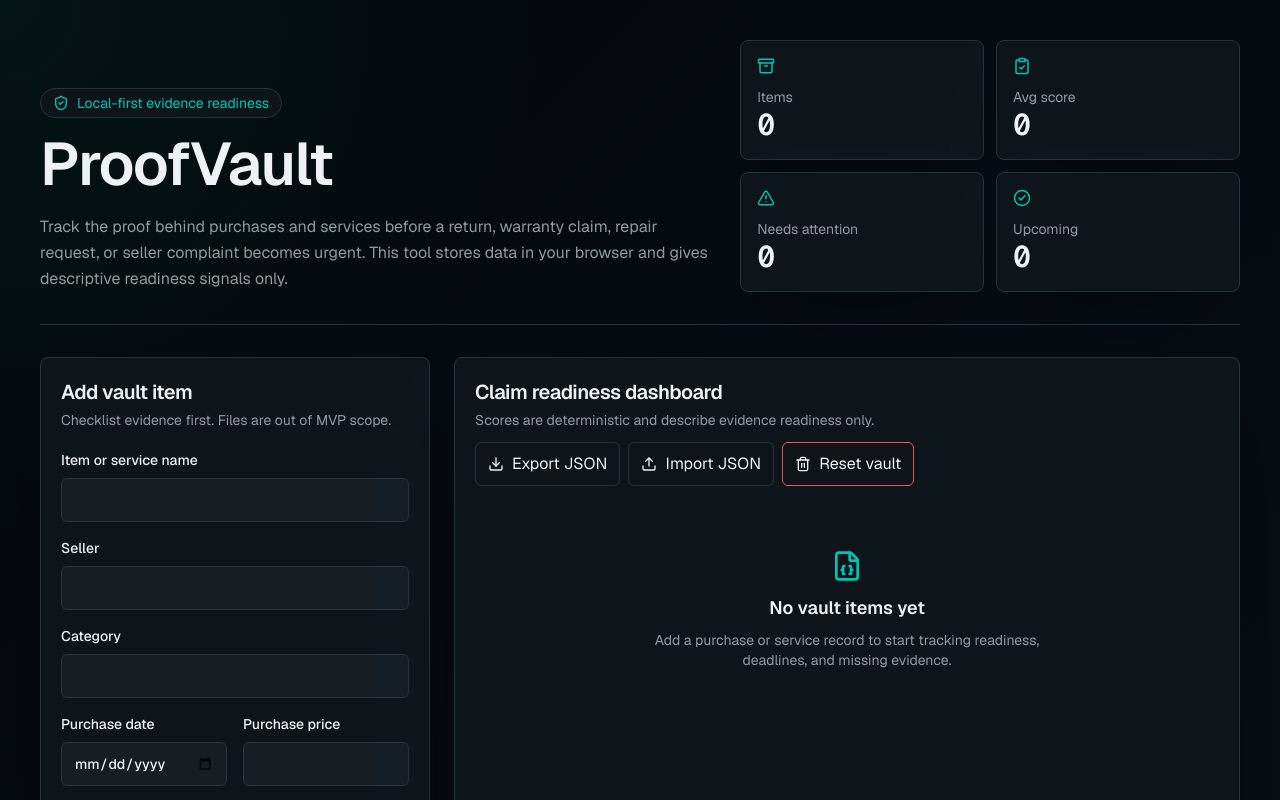
Test: ProofVaultApp › updates readiness score when evidence checklist changes
The width and height of the screenshot is (1280, 800).
Step 1. Type "Smartwatch" into the field labelled "Item or service name" → (235, 500), box [61, 478, 409, 522]
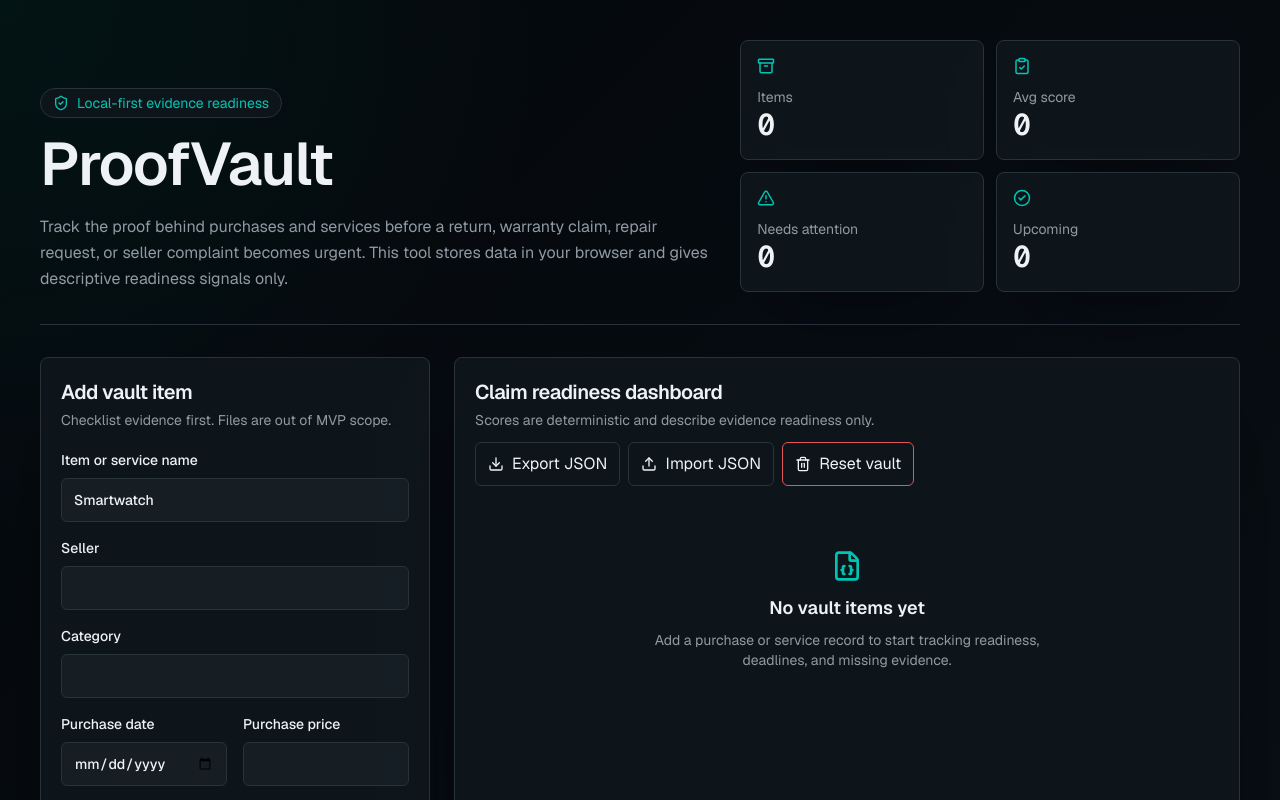
Step 2. Type "Tempo Gadget" into the field labelled "Seller" → (235, 588), box [61, 566, 409, 610]
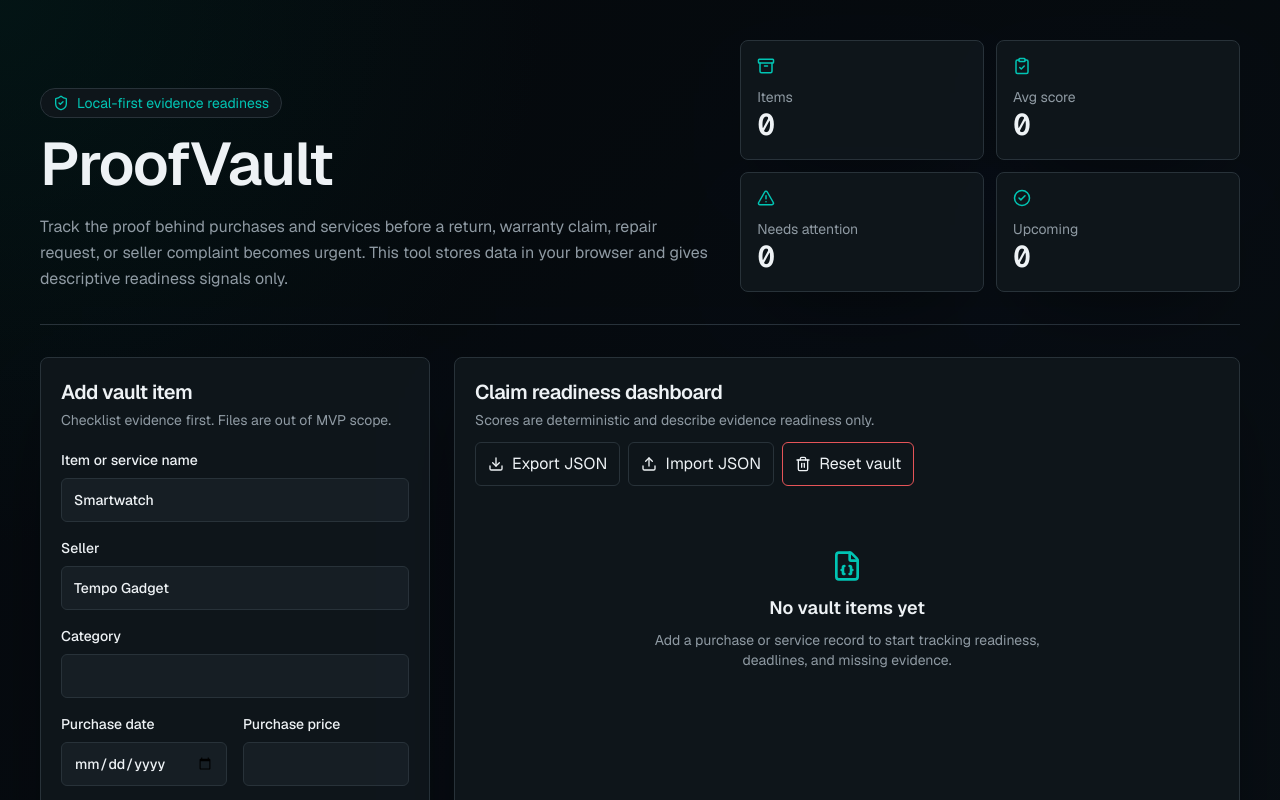
Step 3. Type "2026-06-20" into the date field labelled "Purchase date" → (144, 764), box [61, 742, 227, 786]
(page scrolled)
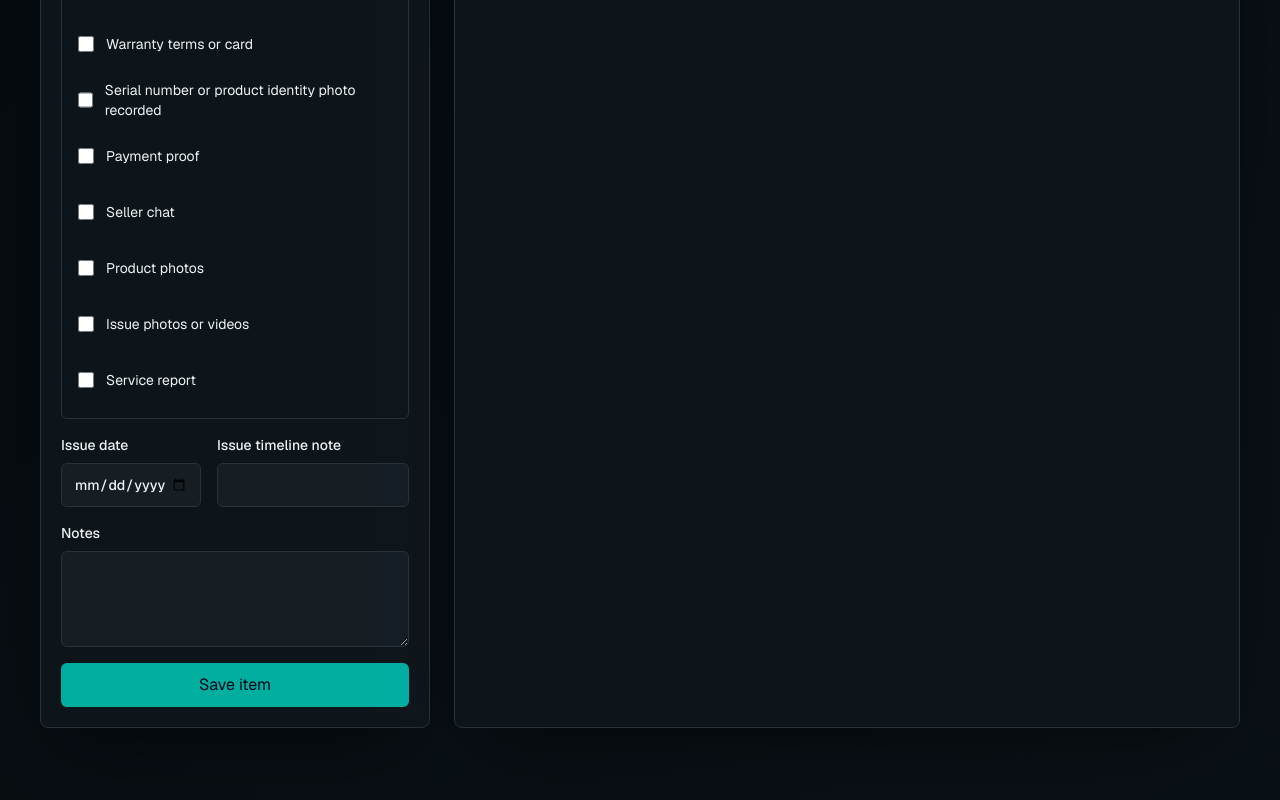
Step 4. Click the button "Save item" → (235, 685), box [61, 663, 409, 707]
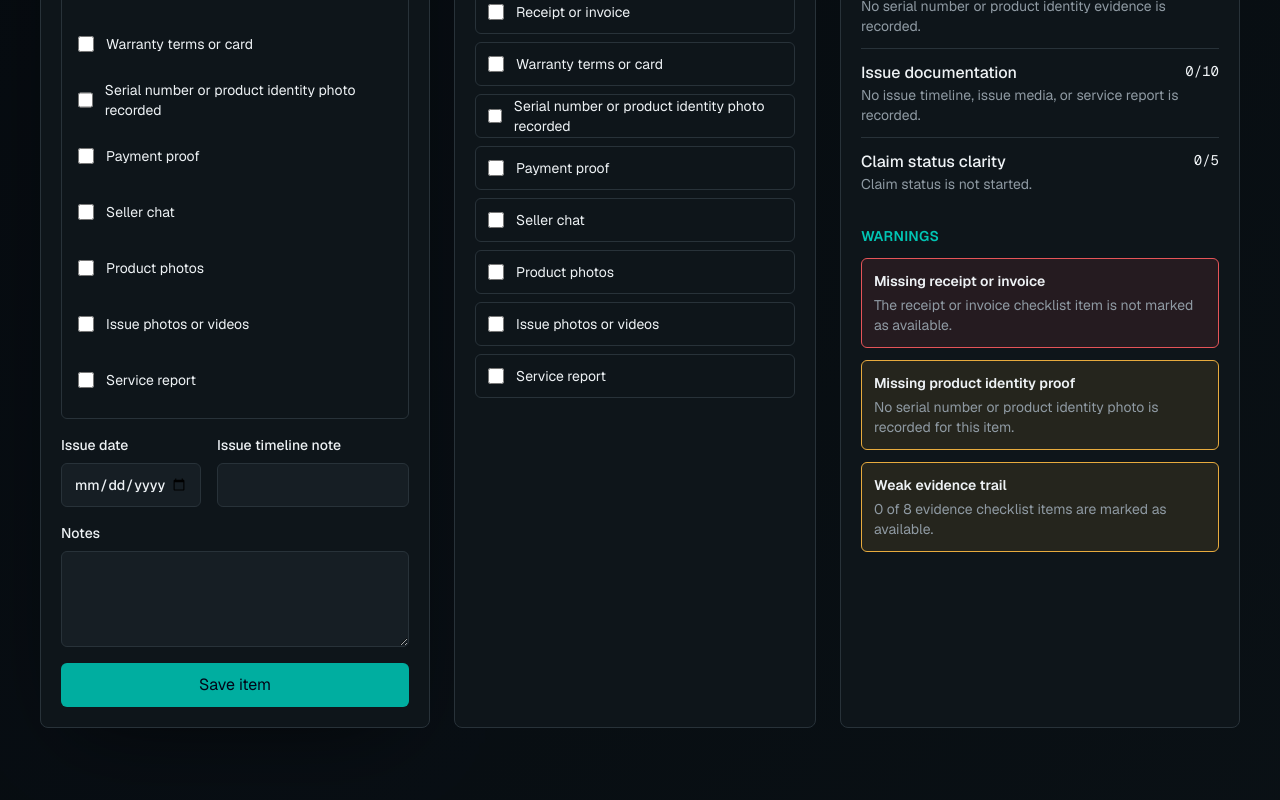
Step 5. Click the checkbox labelled "Receipt or invoice" → (496, 12), box [488, 4, 504, 20]
(page scrolled)
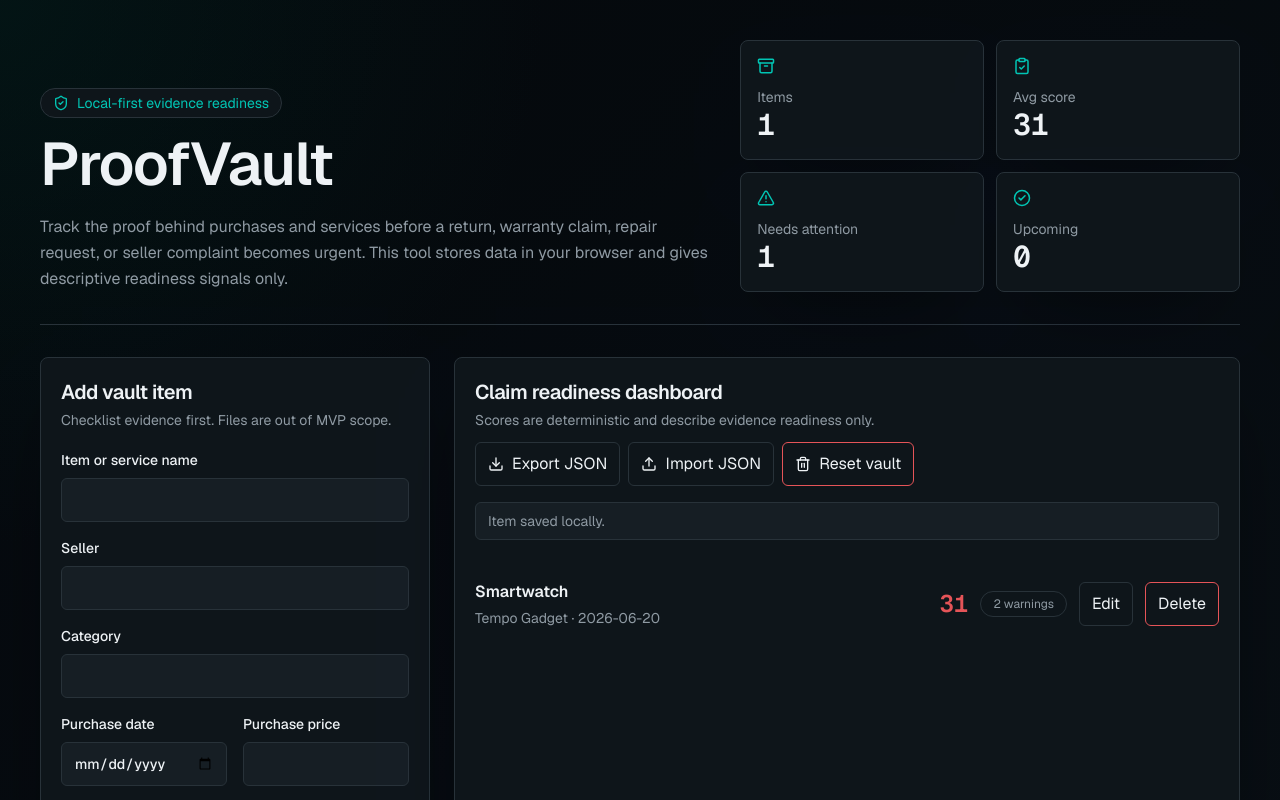
Result: the text "31" below "Avg score" is shown at [1013, 105, 1049, 144]
